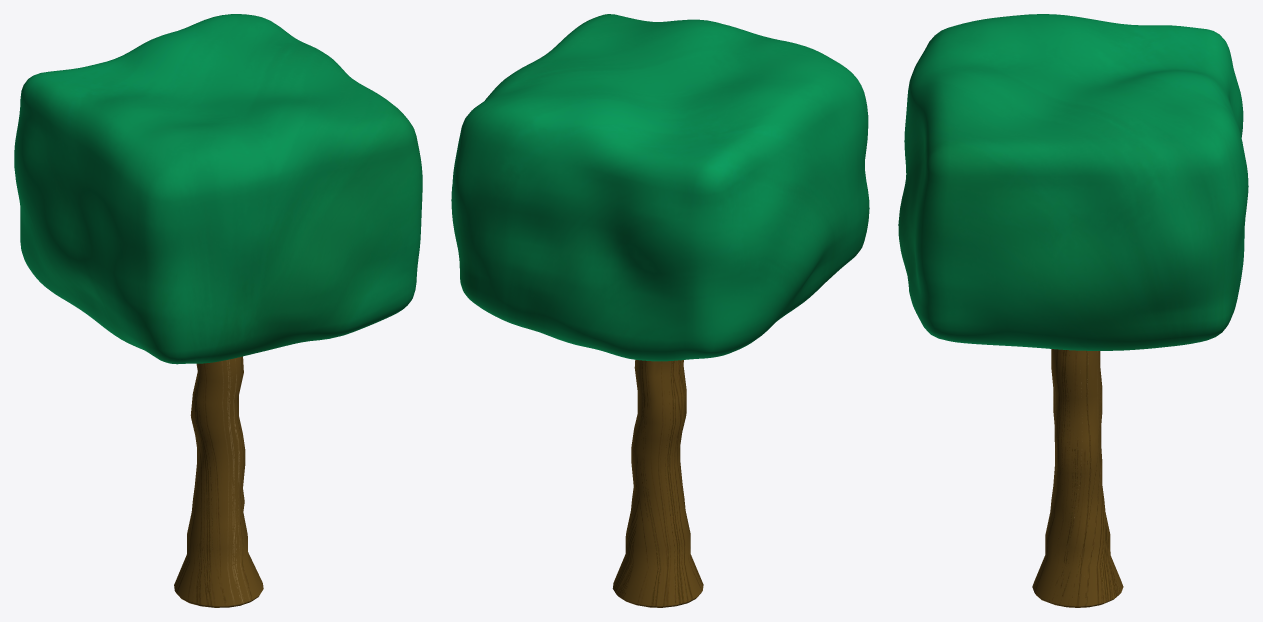
File: SM_TreeApple_Low.fbx
The picture shows the model from 3 angles, left to right: view 1: azimuth 30°, elevation 25°; view 2: azimuth 150°, elevation 25°; view 3: azimuth 270°, elevation 25°; orthographic projection.
Visible parts, largest first — view 1: SM_TreeApple_Low; view 2: SM_TreeApple_Low; view 3: SM_TreeApple_Low.
Boxes of the visible parts, x1,y1,x2,y2 form: SM_TreeApple_Low: (14,14,422,607); SM_TreeApple_Low: (451,14,869,607); SM_TreeApple_Low: (898,14,1248,607).
Bounding box in the file's own units: 5.45 × 8.72 × 5.26.
